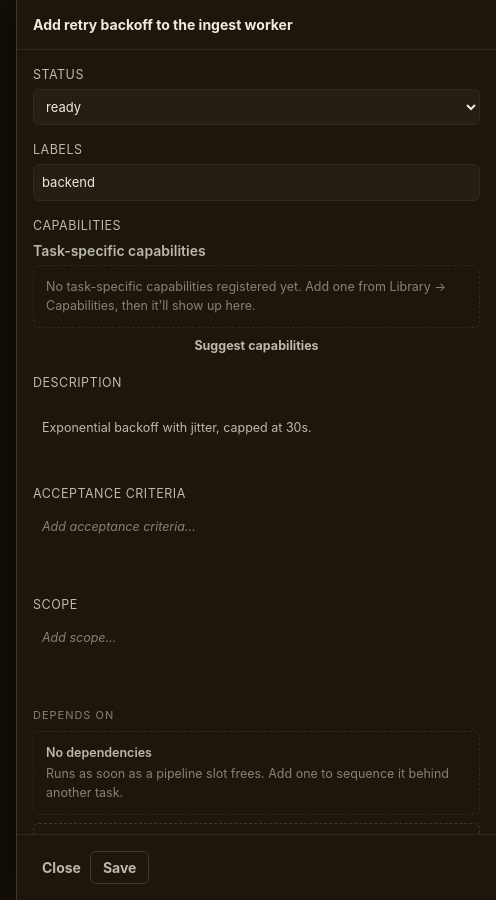
Test: TaskDetailSheet › click-to-edit long-text fields › commits the edit to the draft on blur
Click the button named "Edit Description" at (256,433), box [33,397,480,469]
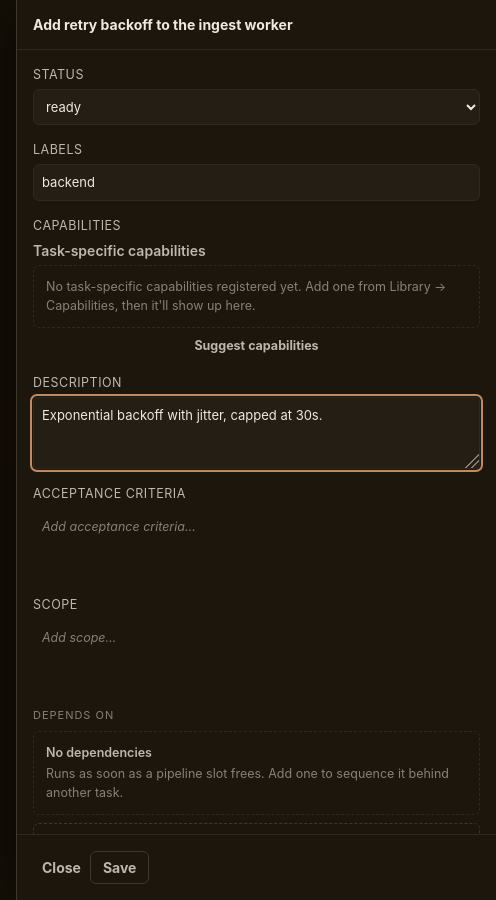
Replace the text in the text box named "Description" with "Retry with jitter, revised." at (256,433), box [33,397,480,469]
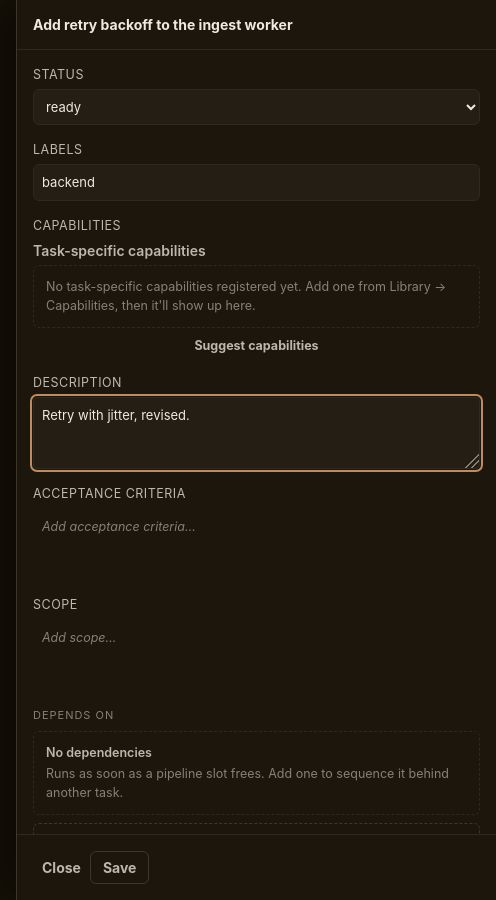
Leave the text box named "Description", box [33,397,480,469]
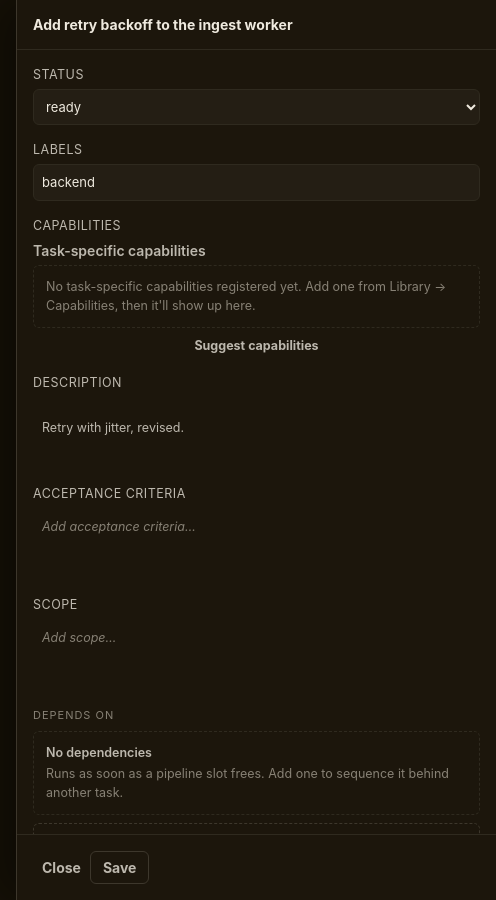
Now the text "Retry with jitter, revised." is shown, box [42,420,184,434]
